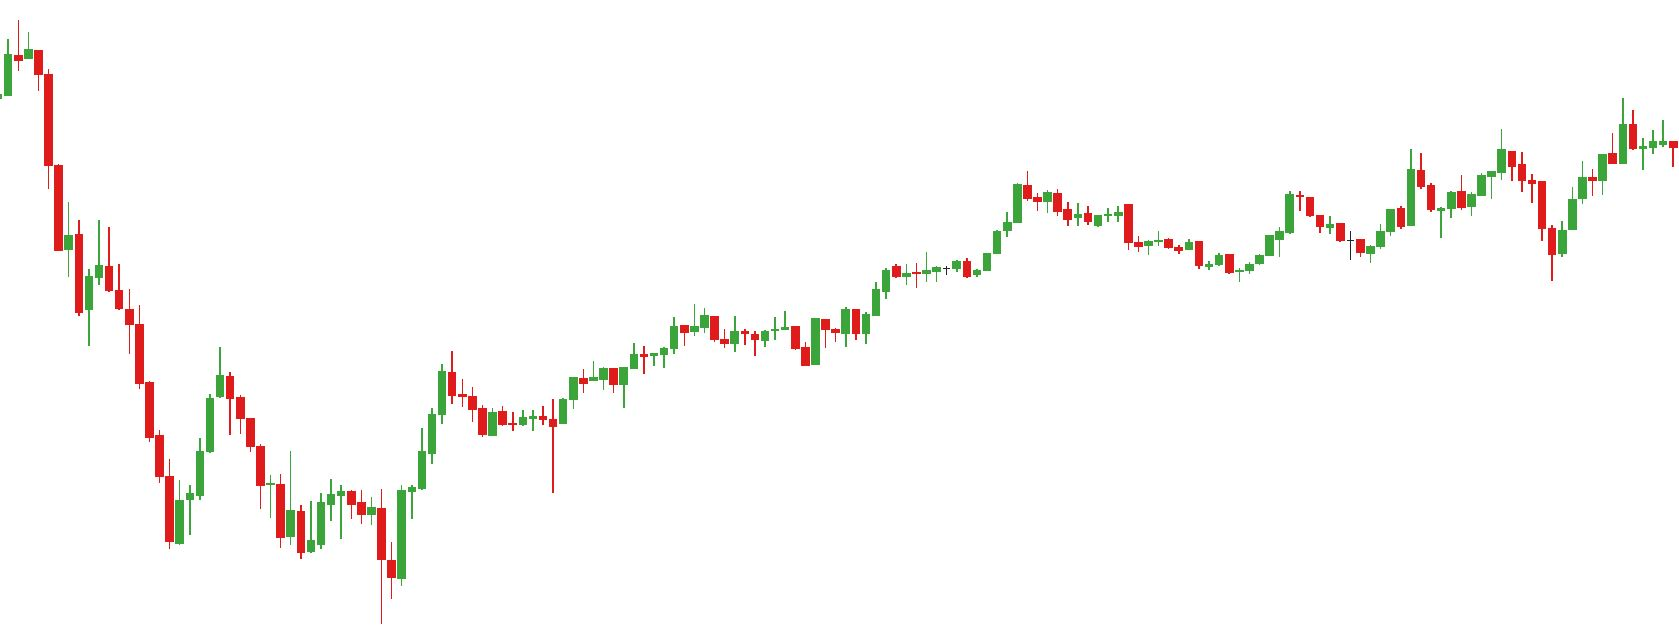buy: (1435, 172, 1568, 289), (296, 498, 410, 625), (750, 319, 823, 373)
